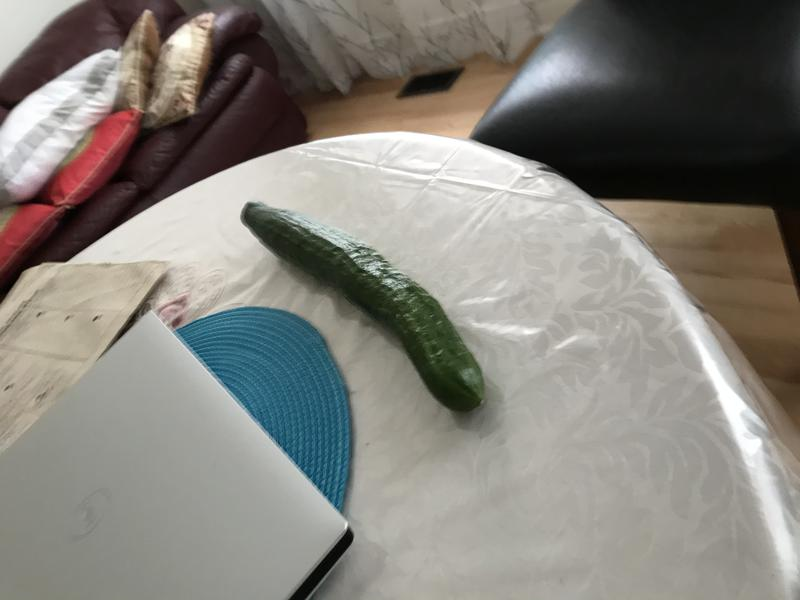cucumber: (224, 192, 498, 424)
